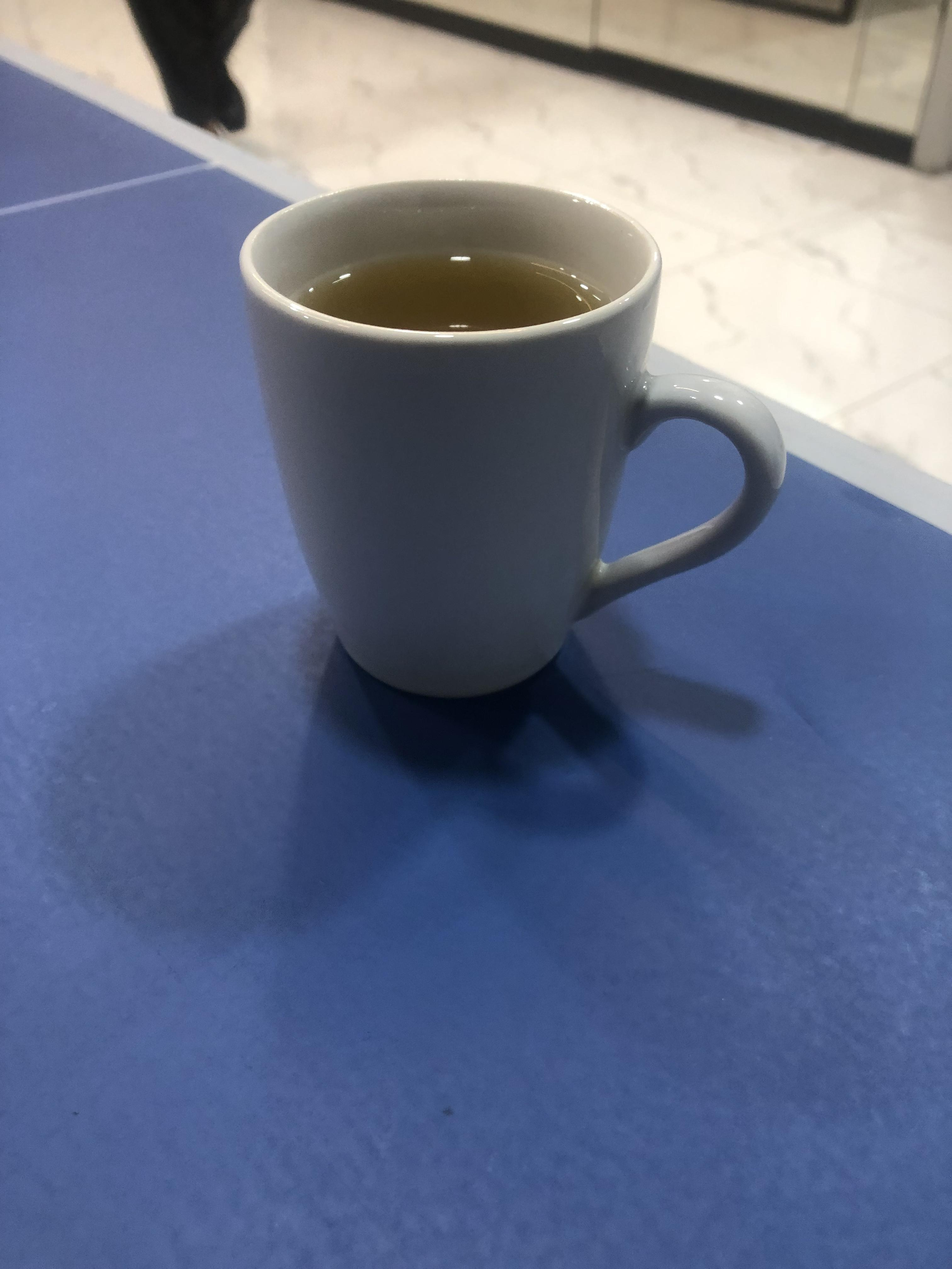cup-handle: (241, 164, 795, 715)
